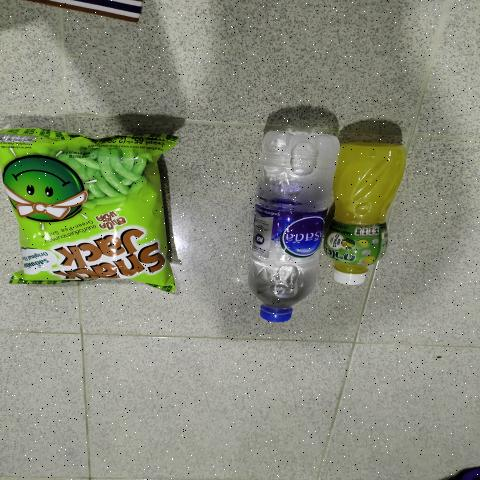crystal: (270, 125, 318, 290)
snack_jack: (23, 138, 162, 286)
